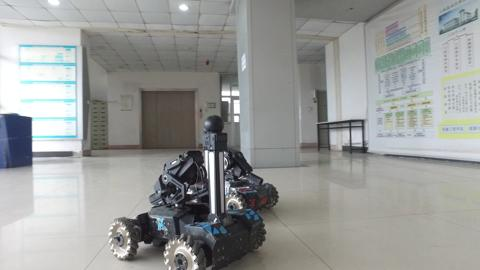chariot: (102, 112, 265, 265), (192, 134, 279, 227)
